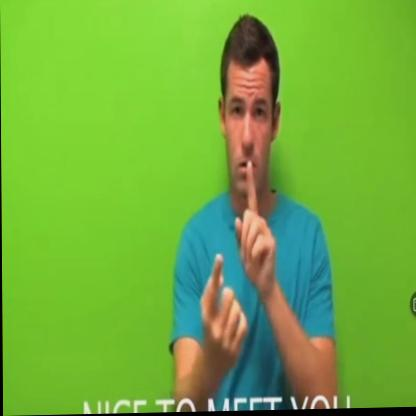NiceToMeetYou: (170, 153, 285, 371)
